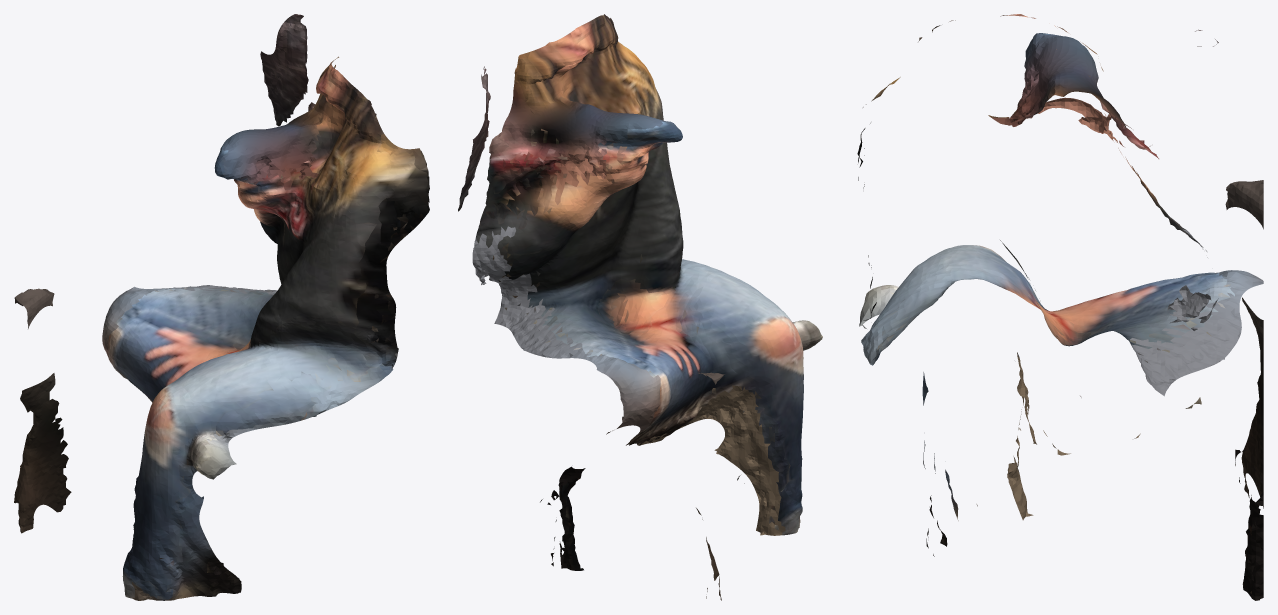
3 views of the same model, side by side, from view 1: azimuth 30°, elevation 25°; view 2: azimuth 150°, elevation 25°; view 3: azimuth 270°, elevation 25° (orthographic). The views are drawn at different scales.
Size of the model in its own units: 0.5275 by 0.8998 by 0.5346.
Materials: 1 (1 with a texture image).
